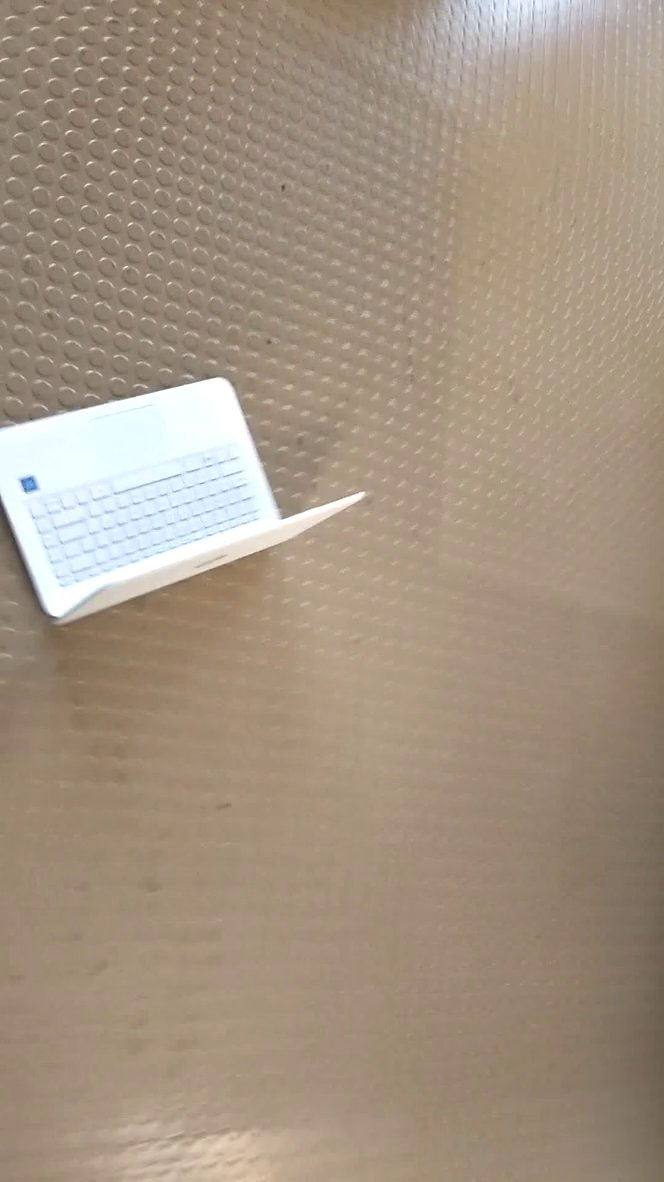laptop: (2, 361, 377, 633)
